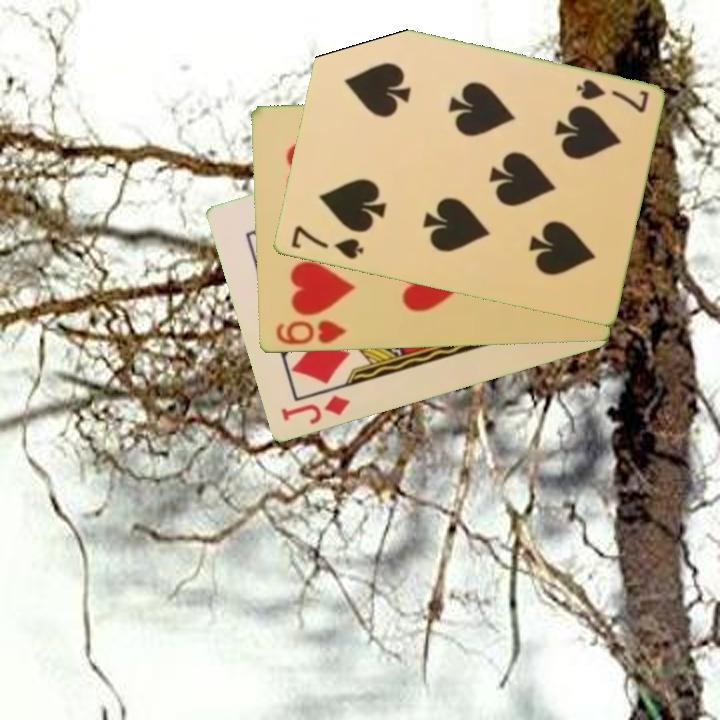6h: (272, 317, 349, 349)
7s: (287, 222, 366, 263), (572, 76, 652, 116)
Jd: (277, 392, 353, 428)
